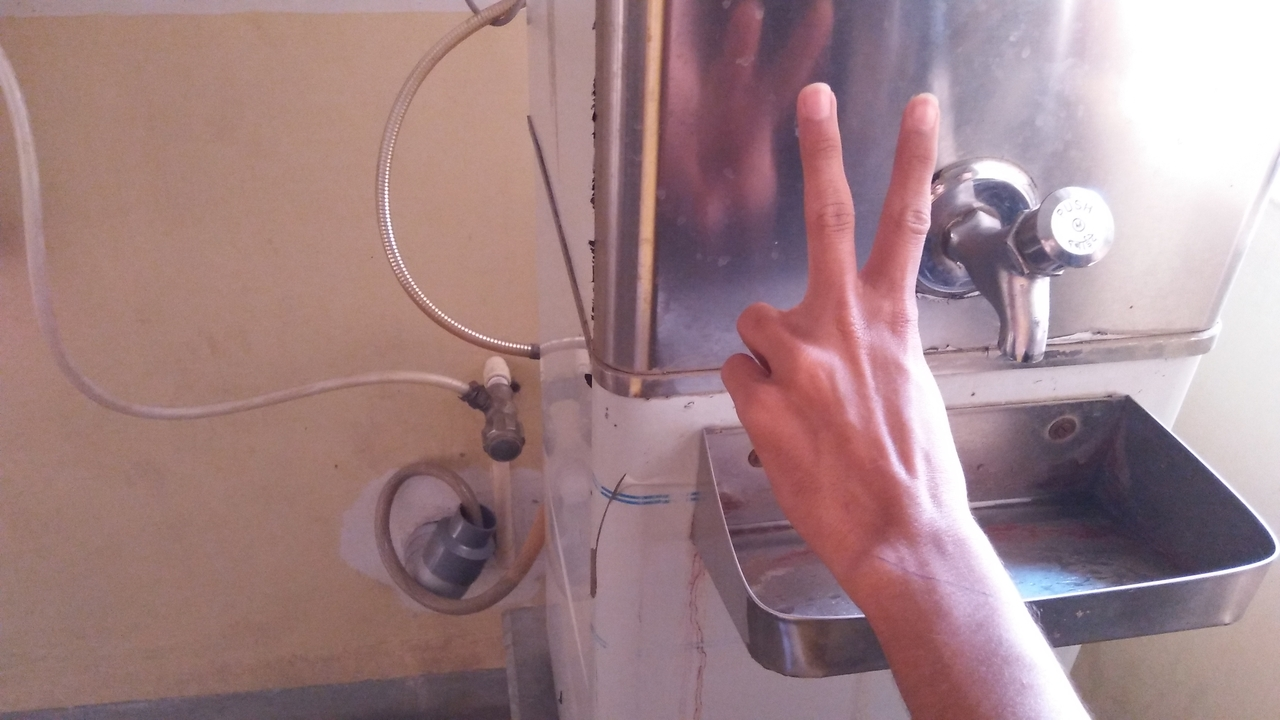fingertip: (794, 74, 848, 128), (894, 84, 952, 134)
